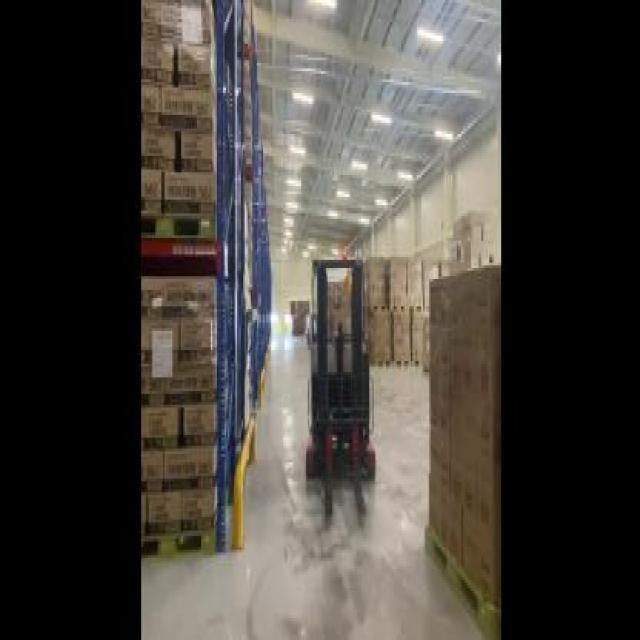box: (138, 3, 276, 558), (417, 274, 501, 634), (352, 238, 440, 369), (446, 200, 499, 284), (289, 298, 311, 337)
robot: (304, 246, 376, 539)
